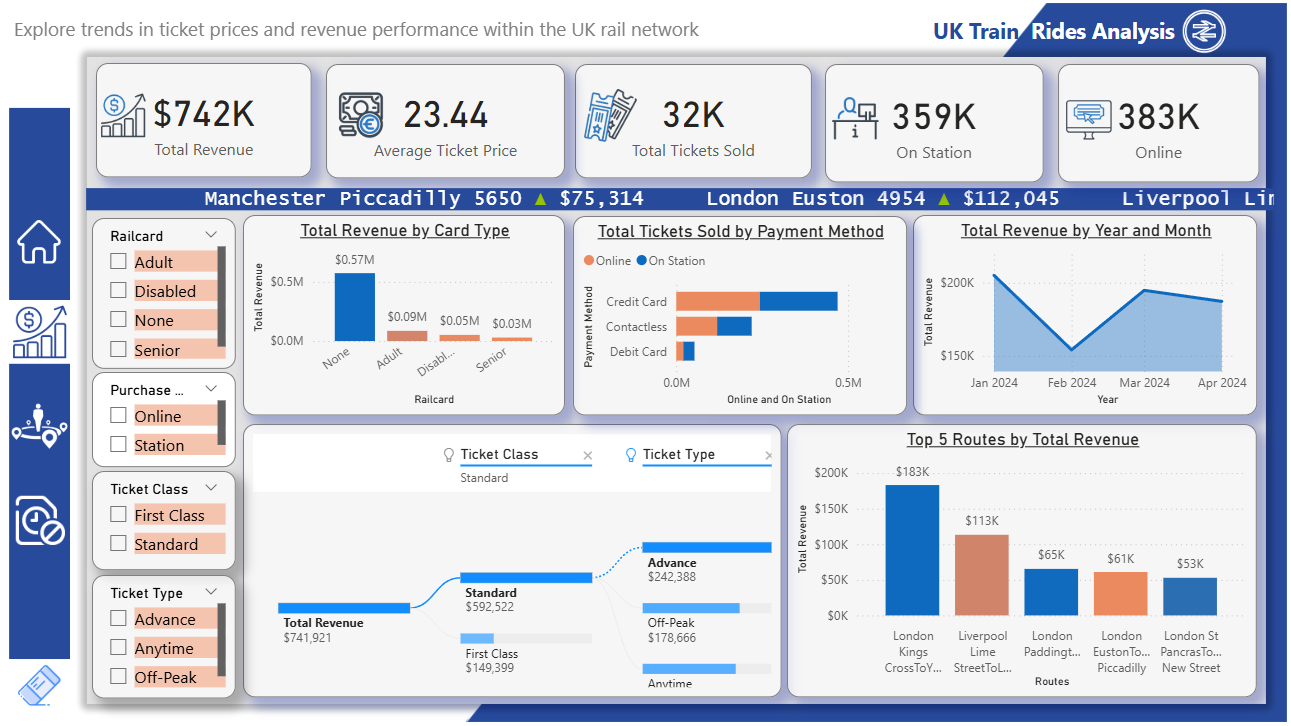

Layout of this report page (visuals, bound fields, positions):
{"tool":"powerbi","page":{"name":"Revenue Analysis","canvas":[1280,720],"ordinal":2},"visuals":[{"type":"image","box":[0,0,1280,720.4],"z":0},{"type":"card","fields":{"Values":["All Measures.Total Tickets Sold"]},"box":[552.8,65.2,233.9,113.4],"z":1000},{"type":"card","fields":{"Values":["All Measures.Total Revenue"]},"box":[95.3,63.8,213.3,112.8],"z":2000},{"type":"card","fields":{"Values":["All Measures.Average Ticket Price"]},"box":[798.1,65.2,236.7,113.4],"z":3000},{"type":"ScrollingTextVisual1448795304508","fields":{"Measure Absolute":["All Measures.Total Journies"],"Measure Deviation":["All Measures.Total Revenue"],"Category":["railway.Departure Station"]},"box":[79.6,182.7,1183,32.3],"z":4000},{"type":"textbox","box":[916.5,12.8,308.1,40.5],"z":5000},{"type":"columnChart","title":"Total Revenue by Card Type","fields":{"Category":["railway.Railcard"],"Y":["All Measures.Total Revenue"]},"box":[239.6,214.2,318.3,197.6],"z":6000},{"type":"decompositionTreeVisual","fields":{"Analyze":["All Measures.Total Revenue"],"ExplainBy":["railway.Ticket Class","railway.Ticket Type"]},"box":[239.6,420.5,531.6,270.2],"z":7000},{"type":"areaChart","fields":{"Y":["All Measures.Total Revenue"],"Category":["Date Table.Date.Variation.Date Hierarchy.Year","Date Table.Date.Variation.Date Hierarchy.Month"]},"box":[901.5,214,340.2,197],"z":8000},{"type":"barChart","title":"Total Tickets Sold by Payment Method ","fields":{"Y":["All Measures.Online","All Measures.On Station"],"Category":["railway.Payment Method"]},"box":[565.6,214,330.3,197],"z":9000},{"type":"columnChart","title":"Top 5 Routes by Total Revenue ","fields":{"Category":["railway.Routes"],"Y":["All Measures.Total Revenue"]},"box":[777.3,420.5,464.3,270.2],"z":10000},{"type":"image","box":[1158.8,0,58.9,64.1],"z":11000},{"type":"image","box":[13.2,652.7,51.8,51.8],"z":12000},{"type":"image","box":[8.7,214.2,58.6,53.3],"z":13000},{"type":"card","fields":{"Values":["All Measures.Net profit"]},"box":[321.8,65.2,215.5,117.7],"z":14000},{"type":"image","box":[7.9,485.2,64.7,62.1],"z":15000},{"type":"image","box":[6.1,386.4,65.6,74.3],"z":16000},{"type":"card","fields":{"Values":["All Measures.Total Routes"]},"box":[1044.8,65.6,199.3,117.2],"z":17000},{"type":"image","box":[94.8,87.9,54.3,56.3],"z":18000},{"type":"image","box":[322,84,68.1,63.2],"z":19000},{"type":"image","box":[565.9,84.9,73.1,62.2],"z":20000},{"type":"image","box":[1044.7,87.9,58.1,56.7],"z":21000},{"type":"image","box":[798.1,85,56.7,56.7],"z":22000},{"type":"textbox","box":[8.7,13.1,873.4,57.7],"z":23000},{"type":"slicer","fields":{"Values":["railway.Ticket Class"]},"box":[90.9,466.9,141.6,97.9],"z":24000},{"type":"slicer","fields":{"Values":["railway.Ticket Type"]},"box":[90.9,570.1,141.6,122.4],"z":25000},{"type":"slicer","fields":{"Values":["railway.Purchase Type"]},"box":[90.9,369,141.6,94.4],"z":26000},{"type":"slicer","fields":{"Values":["railway.Railcard"]},"box":[90.9,216.8,141.6,148.6],"z":27000},{"type":"image","box":[7,298.1,64.7,63],"z":28000}]}

Visuals, with their boxes on the page's 1280x720 design canvas (x1, y1, x2, y2). These are canvas units, not pixel positions in the 1291x726 screenshot, which may show the page scaled, cropped or inside an application window:
image: box(0, 0, 1280, 720)
card - All Measures.Total Tickets Sold: box(553, 65, 787, 179)
card - All Measures.Total Revenue: box(95, 64, 309, 177)
card - All Measures.Average Ticket Price: box(798, 65, 1035, 179)
ScrollingTextVisual1448795304508 - All Measures.Total Journies x All Measures.Total Revenue: box(80, 183, 1263, 215)
textbox: box(916, 13, 1225, 53)
"Total Revenue by Card Type" columnChart: box(240, 214, 558, 412)
decompositionTreeVisual - All Measures.Total Revenue x railway.Ticket Class: box(240, 420, 771, 691)
areaChart - All Measures.Total Revenue x Date Table.Date.Variation.Date Hierarchy.Year: box(902, 214, 1242, 411)
"Total Tickets Sold by Payment Method " barChart: box(566, 214, 896, 411)
"Top 5 Routes by Total Revenue " columnChart: box(777, 420, 1242, 691)
image: box(1159, 0, 1218, 64)
image: box(13, 653, 65, 704)
image: box(9, 214, 67, 268)
card - All Measures.Net profit: box(322, 65, 537, 183)
image: box(8, 485, 73, 547)
image: box(6, 386, 72, 461)
card - All Measures.Total Routes: box(1045, 66, 1244, 183)
image: box(95, 88, 149, 144)
image: box(322, 84, 390, 147)
image: box(566, 85, 639, 147)
image: box(1045, 88, 1103, 145)
image: box(798, 85, 855, 142)
textbox: box(9, 13, 882, 71)
slicer - railway.Ticket Class: box(91, 467, 232, 565)
slicer - railway.Ticket Type: box(91, 570, 232, 692)
slicer - railway.Purchase Type: box(91, 369, 232, 463)
slicer - railway.Railcard: box(91, 217, 232, 365)
image: box(7, 298, 72, 361)
